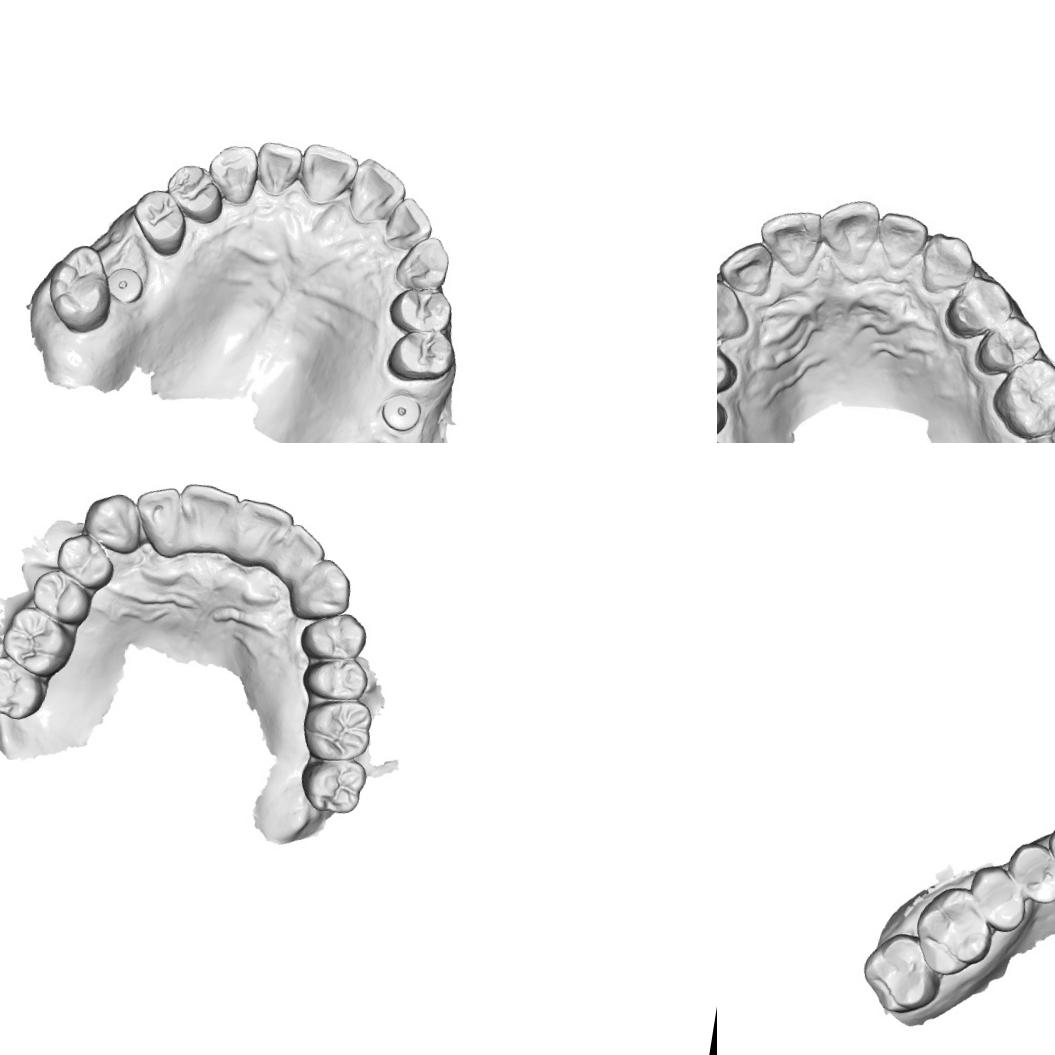canine: (285, 552, 356, 627), (78, 489, 148, 557), (204, 140, 262, 209), (392, 232, 454, 294), (920, 233, 978, 294), (717, 272, 758, 349), (1041, 810, 1055, 887)
implant: (376, 390, 424, 434), (101, 264, 148, 307)
incisor: (345, 154, 410, 232), (296, 141, 362, 210), (128, 482, 186, 560), (820, 195, 878, 260), (175, 480, 240, 536), (232, 493, 296, 549), (759, 207, 817, 266), (382, 193, 437, 254), (876, 208, 932, 267), (250, 140, 303, 200), (720, 240, 776, 293), (274, 520, 330, 570)
molar: (908, 878, 1000, 982), (849, 928, 949, 1022), (41, 240, 120, 338), (0, 602, 80, 681), (296, 693, 376, 767), (295, 750, 370, 818), (1002, 362, 1055, 430), (0, 652, 50, 723)
premolar: (962, 860, 1032, 934), (126, 184, 192, 259), (384, 323, 459, 388), (26, 563, 96, 628), (162, 161, 230, 227), (296, 606, 370, 666), (51, 529, 119, 594), (951, 274, 1014, 340), (385, 282, 456, 339), (1001, 836, 1055, 908), (299, 651, 371, 704), (980, 316, 1042, 374), (717, 333, 739, 392)
